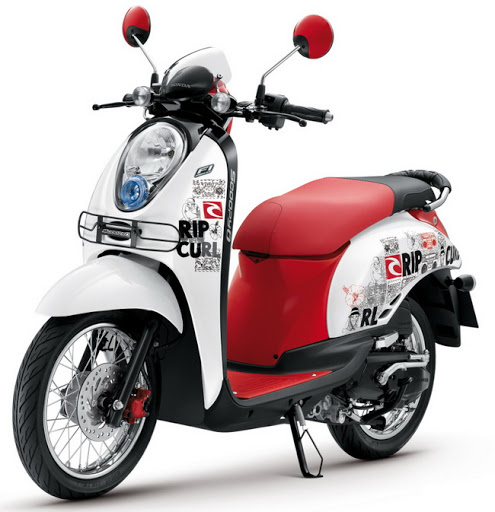motorcycle: (14, 9, 479, 499)
